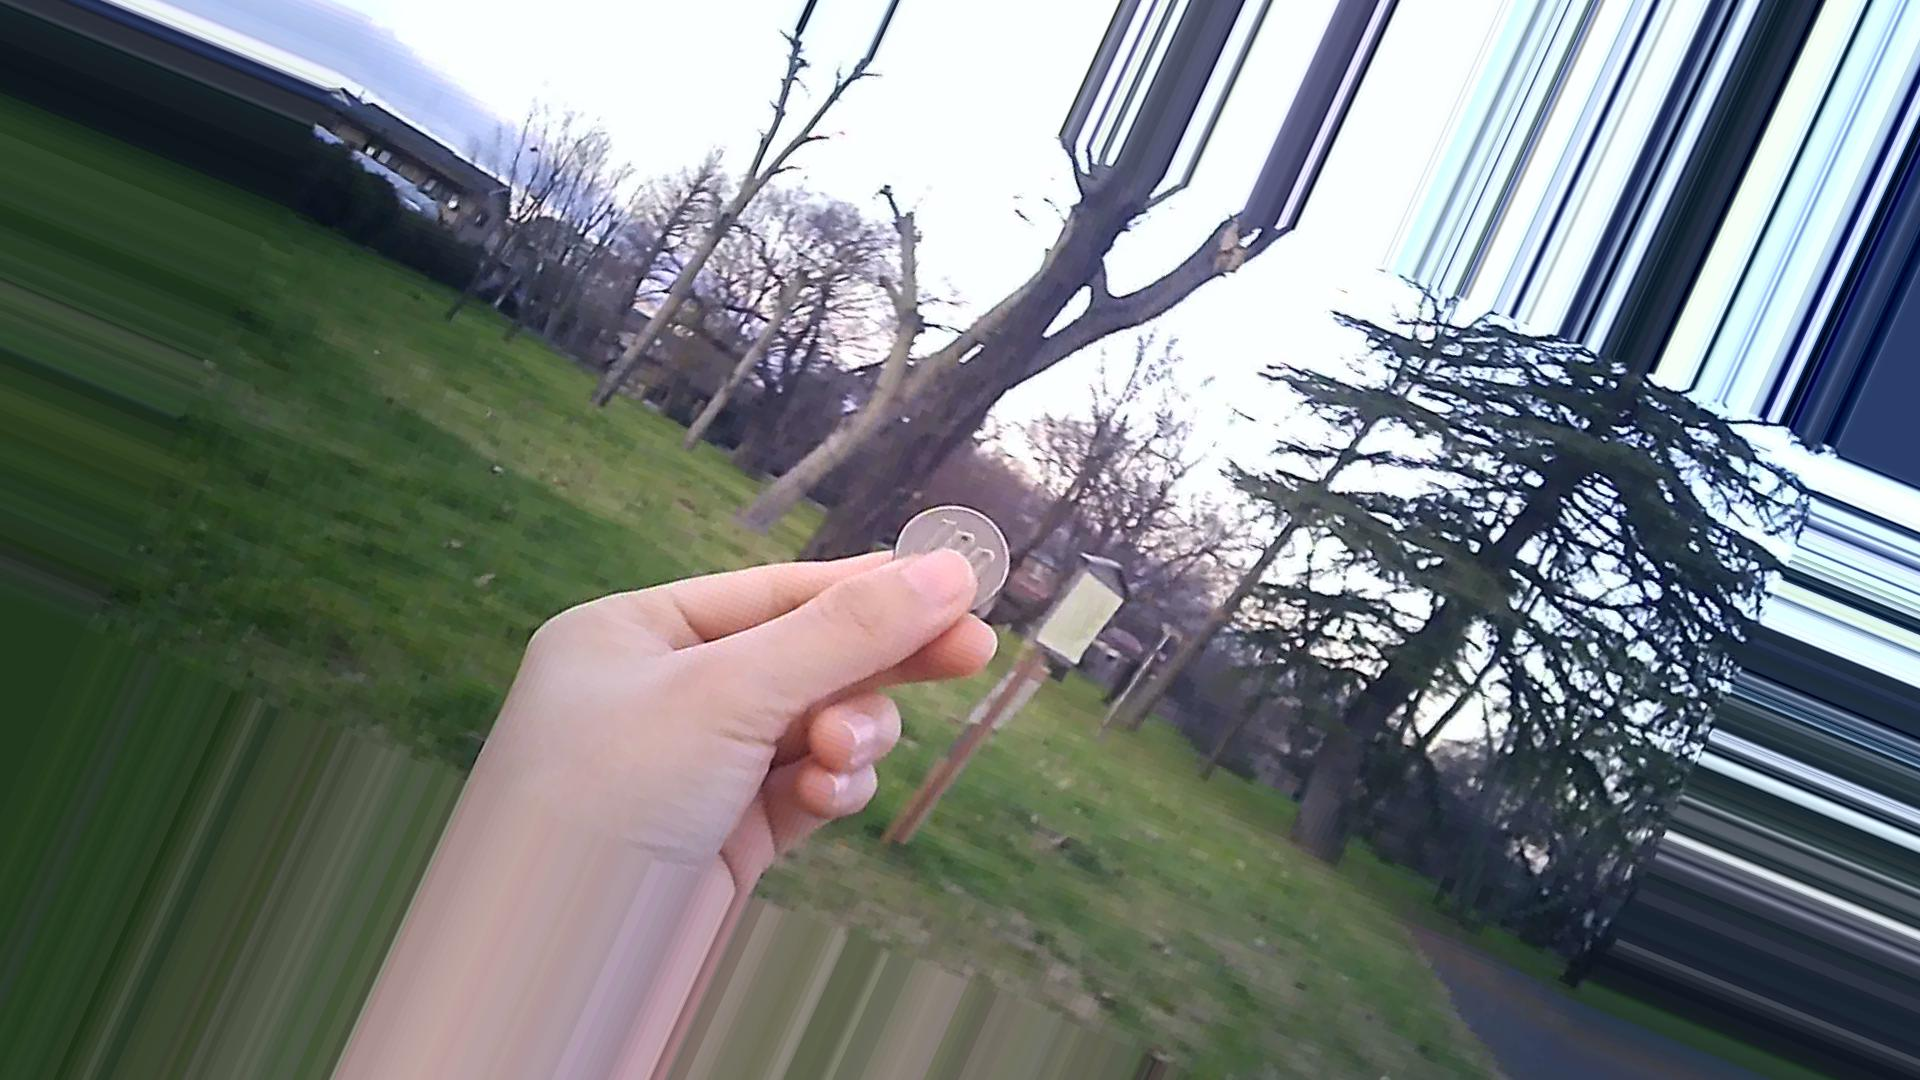100 Yen: (884, 501, 1009, 603)
